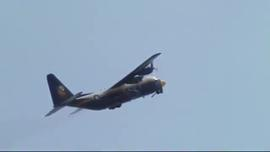aircraft: (46, 52, 166, 116)
